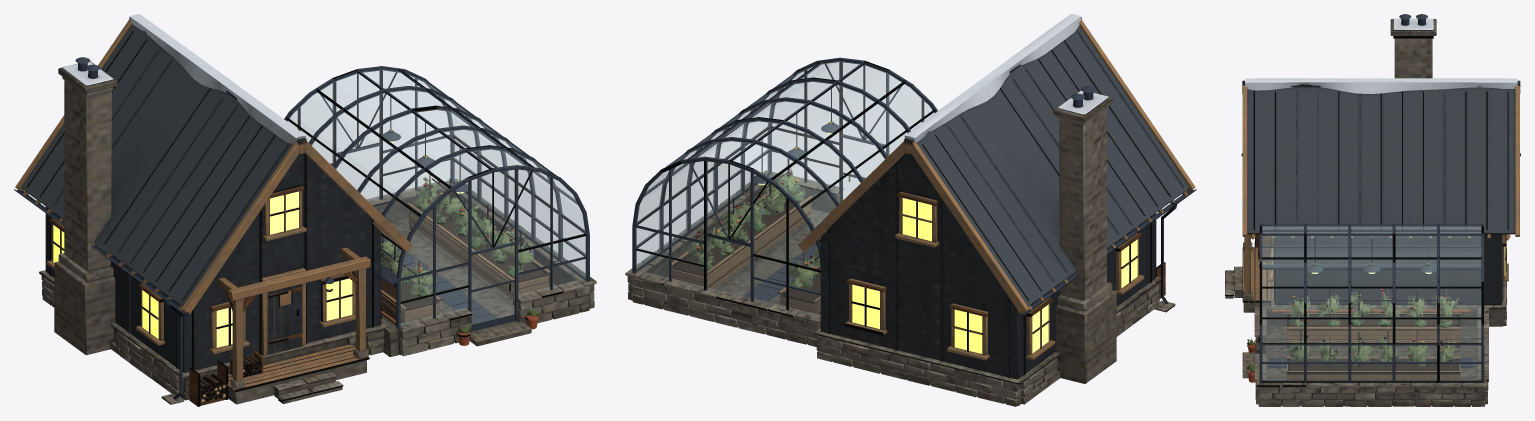
The model's file is farmhouse_nordic_geothermal.glb.
3 renders of one model, left to right at view 1: azimuth 30°, elevation 25°; view 2: azimuth 150°, elevation 25°; view 3: azimuth 270°, elevation 25°, orthographic. The views are drawn at different scales.
Parts seen in each view (by area): view 1: SlateRoofAndSnow, GreenhouseGlass, StoneMasonry, GeothermalGreenhouse, CedarPorchAndWindows, CharredTimberWalls, GreenhouseFoliage, WindowGlassGlow; view 2: SlateRoofAndSnow, StoneMasonry, GreenhouseGlass, CharredTimberWalls, GeothermalGreenhouse, CedarPorchAndWindows, WindowGlassGlow, GreenhouseFoliage; view 3: SlateRoofAndSnow, GreenhouseGlass, GeothermalGreenhouse, StoneMasonry, CharredTimberWalls, GreenhouseFoliage, CedarPorchAndWindows.
Boxes of the visible parts, x1,y1,x2,y2 form: SlateRoofAndSnow: (14, 14, 398, 399); GreenhouseGlass: (287, 69, 585, 325); StoneMasonry: (39, 57, 596, 404); GeothermalGreenhouse: (284, 66, 589, 345); CedarPorchAndWindows: (15, 19, 412, 406); CharredTimberWalls: (45, 153, 381, 372); GreenhouseFoliage: (381, 177, 541, 338); WindowGlassGlow: (53, 191, 352, 347); SlateRoofAndSnow: (812, 14, 1196, 315); StoneMasonry: (625, 86, 1175, 406); GreenhouseGlass: (636, 61, 934, 316); CharredTimberWalls: (820, 153, 1156, 379); GeothermalGreenhouse: (632, 57, 937, 314); CedarPorchAndWindows: (798, 19, 1195, 360); WindowGlassGlow: (852, 198, 1137, 353); GreenhouseFoliage: (687, 168, 843, 288); SlateRoofAndSnow: (1241, 78, 1520, 238); GreenhouseGlass: (1262, 226, 1481, 380); GeothermalGreenhouse: (1247, 224, 1484, 383); StoneMasonry: (1225, 14, 1506, 406); CharredTimberWalls: (1274, 234, 1503, 304); GreenhouseFoliage: (1246, 292, 1458, 373); CedarPorchAndWindows: (1242, 85, 1520, 302).
Bounding box in the file's own units: 12.23 × 7.54 × 8.85.
Materials: 6 (3 with a texture image).
